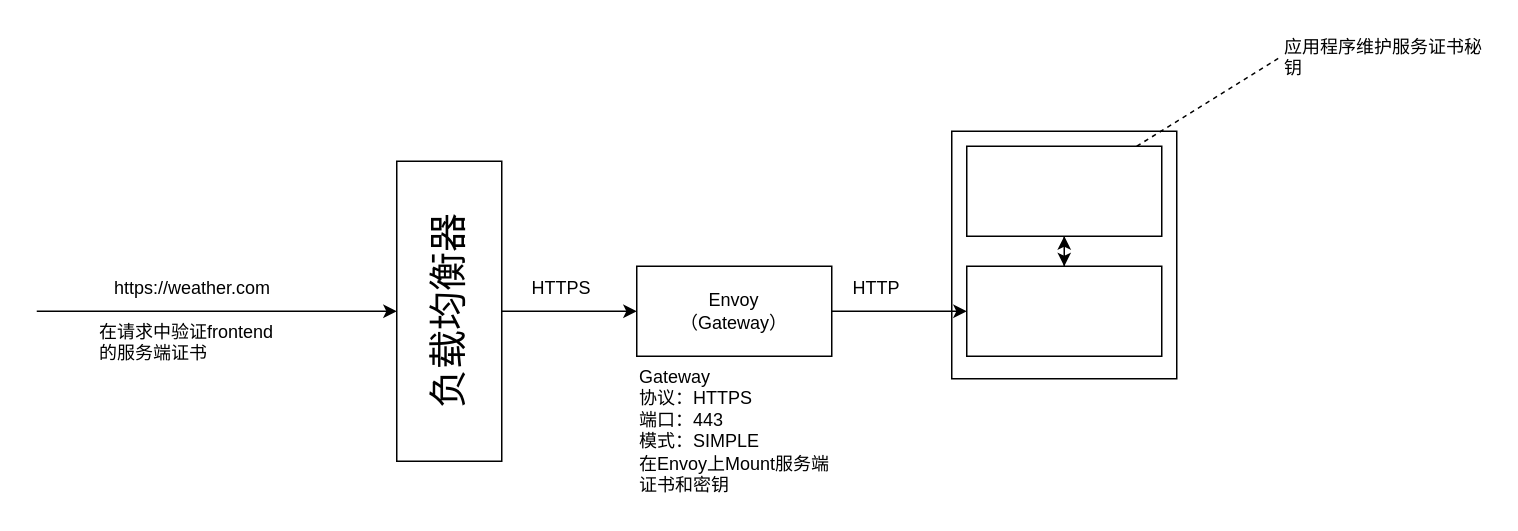
Some shapes in this 1518 by 531 pixel diagram are drawn without their labels. Here are the shapes that lost their labels. From the top down, the centre of each, then its label:
At (1063,190): "frontend".
At (1063,310): "Envoy （Sidecar）".
